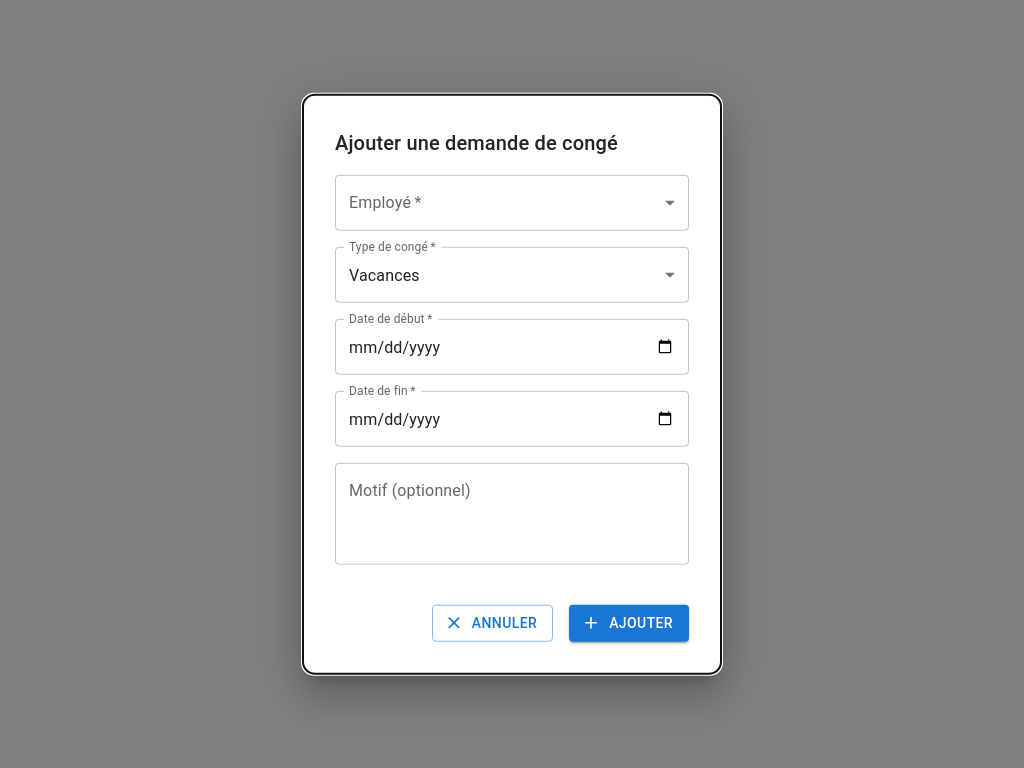
it: LeaveRequestForm › should render employee options from mocked query
Expected: the heading "Ajouter une demande de congé" is shown, [335,131,618,155]
Click the dropdown named "employé". click: {"x": 512, "y": 203}
box: [335,175,689,231]
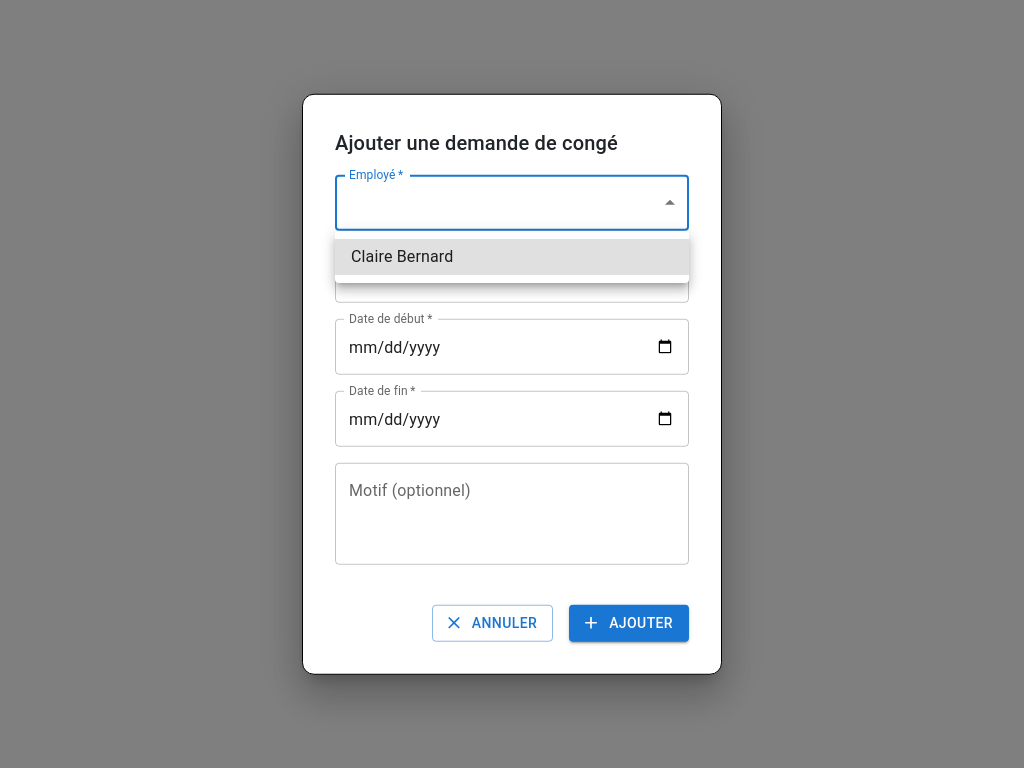
Result: the option "Claire Bernard" is shown at [335,239,689,275]
